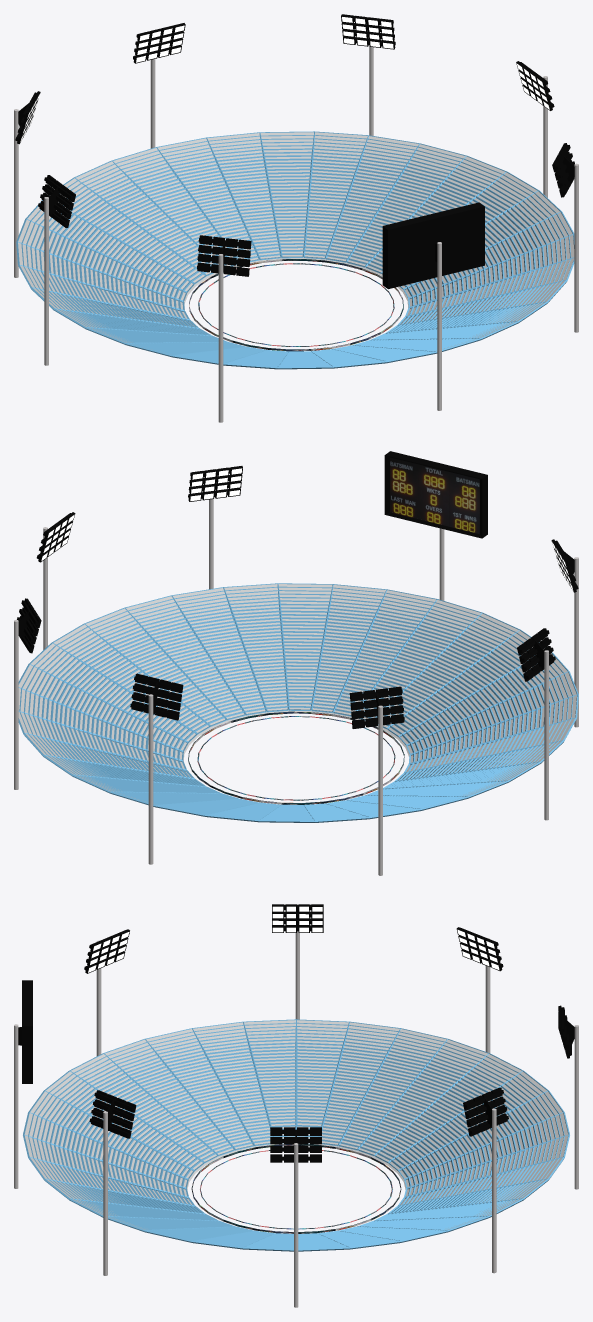
The model's file is stadium.glb.
The picture shows the model from 3 angles, top to bottom: view 1: azimuth 30°, elevation 25°; view 2: azimuth 150°, elevation 25°; view 3: azimuth 270°, elevation 25°; orthographic projection. The views are drawn at different scales.
Visible parts, largest first — view 1: Material_002, outer_area_0, Lights_base, Scoreboard_body, Lights_pole, Emissive, Boundary_texture, Rope_texture; view 2: Material_002, outer_area_0, Lights_base, Lights_pole, Scoreboard_screen, Scoreboard_body, Emissive, Boundary_texture, Rope_texture; view 3: Material_002, outer_area_0, Lights_base, Lights_pole, Emissive, Scoreboard_body, Boundary_texture, Rope_texture.
Part boxes in pixels (x1,y1,x2,y2): Material_002: (16,131,574,369); outer_area_0: (18,132,574,348); Lights_base: (15,14,574,276); Scoreboard_body: (382,202,484,289); Lights_pole: (14,45,578,422); Emissive: (20,17,549,141); Boundary_texture: (189,259,403,351); Rope_texture: (198,263,394,346); Material_002: (18,583,578,822); outer_area_0: (18,584,576,802); Lights_base: (17,466,578,728); Lights_pole: (14,499,578,875); Scoreboard_screen: (390,457,479,534); Scoreboard_body: (384,451,487,538); Emissive: (41,468,573,590); Boundary_texture: (188,711,404,804); Rope_texture: (197,716,395,800); Material_002: (23,1019,569,1251); outer_area_0: (24,1020,568,1229); Lights_base: (84,904,574,1162); Lights_pole: (14,931,578,1307); Emissive: (88,906,499,972); Scoreboard_body: (18,980,32,1083); Boundary_texture: (191,1144,401,1233); Rope_texture: (200,1150,392,1229).
Size of the model in its own units: 370 by 136 by 370.
9 materials, 3 textured.
